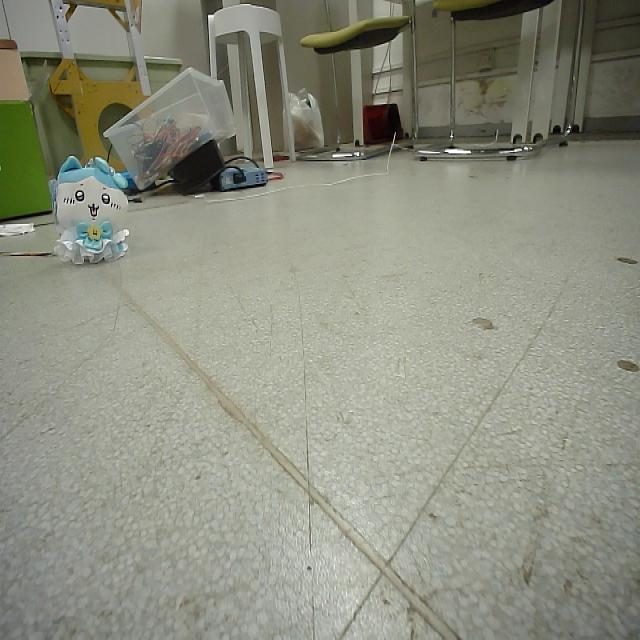xiaoba: (45, 151, 132, 267)
